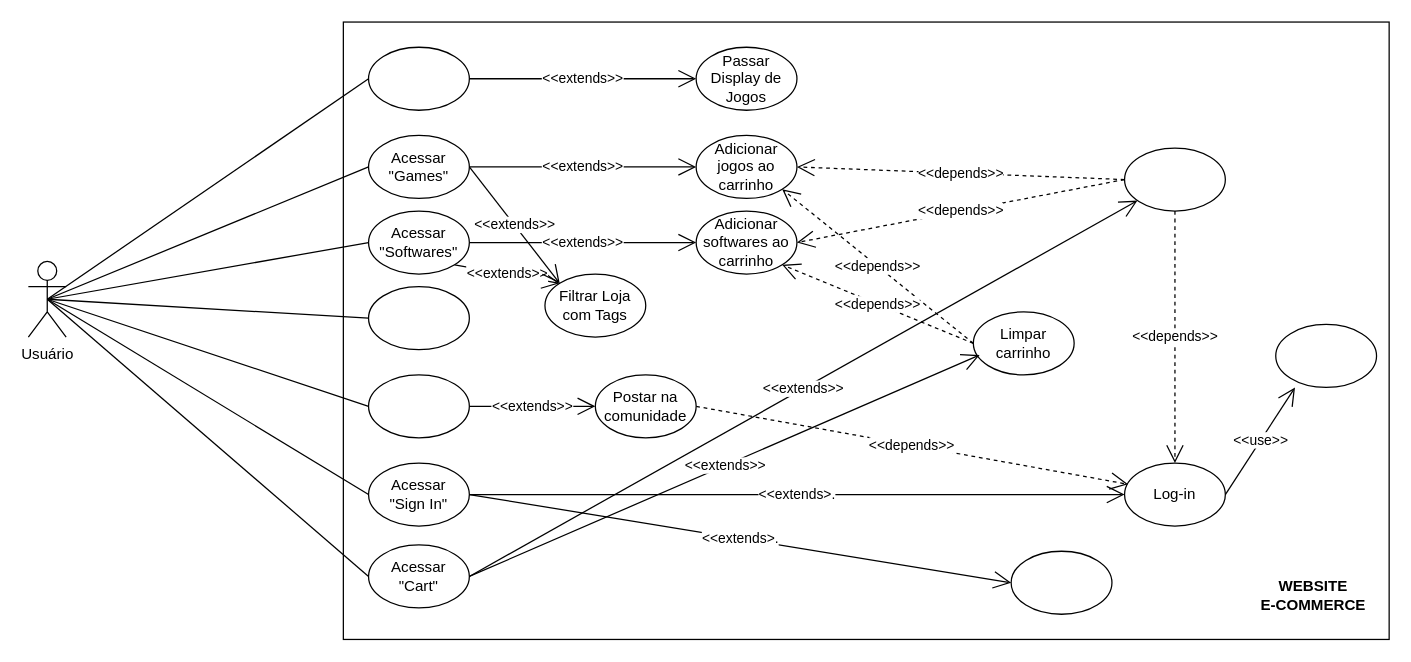
The diagram is 1411 pixels wide and 662 high, and some of its shapes have lost their labels. Each missing label, with the centre of its shape:
Acessar "Community": (418,406)
Acessar "Main Page": (418,78)
Acessar "News": (418,317)
Acessar Perfil: (1325,355)
Finalizar compra: (1174,179)
Registrar: (1061,582)
